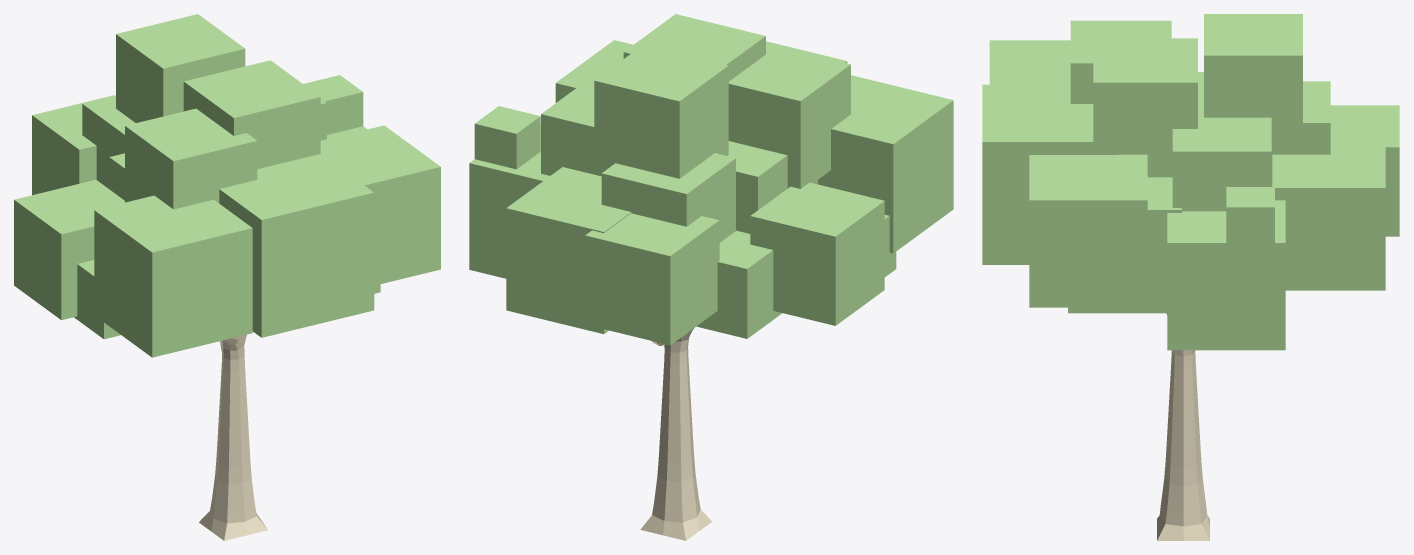
File: Redgumtree.glb
3 renders of one model, left to right at view 1: azimuth 30°, elevation 25°; view 2: azimuth 150°, elevation 25°; view 3: azimuth 270°, elevation 25°, orthographic. The views are drawn at different scales.
Parts seen in each view (by area): view 1: 平面; view 2: 平面; view 3: 平面.
Boxes of the visible parts, x1,y1,x2,y2 form: 平面: (14, 14, 440, 540); 平面: (469, 14, 953, 540); 平面: (982, 14, 1399, 540).
Size of the model in its own units: 5.98 by 7.9 by 6.16.
